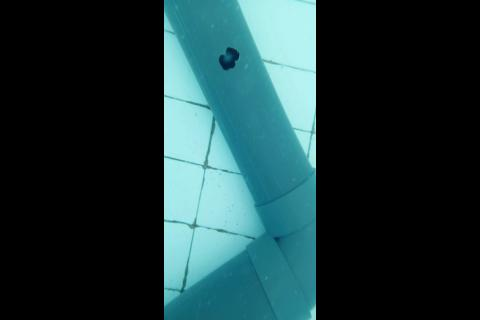kebocoran: (218, 45, 240, 72)
